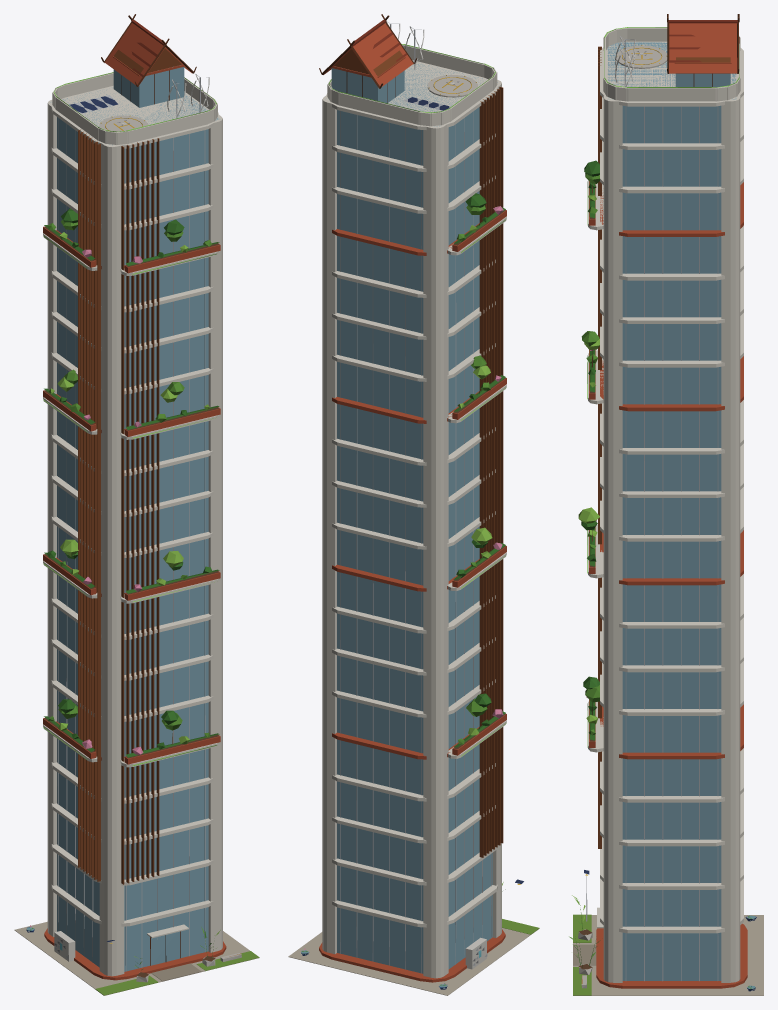
The model's file is shop_4.glb.
3 views of the same model, side by side, from view 1: azimuth 30°, elevation 25°; view 2: azimuth 150°, elevation 25°; view 3: azimuth 270°, elevation 25° (orthographic). The views are drawn at different scales.
Visible parts, largest first — view 1: body, windows; view 2: body, windows; view 3: body, windows.
Boxes of the visible parts, x1,y1,x2,y2 form: body: [14, 14, 259, 995]; windows: [43, 72, 216, 950]; body: [288, 14, 539, 995]; windows: [328, 44, 520, 957]; body: [569, 14, 763, 995]; windows: [585, 27, 739, 875].
Size of the model in its own units: 15.9 by 87.77 by 16.3.
